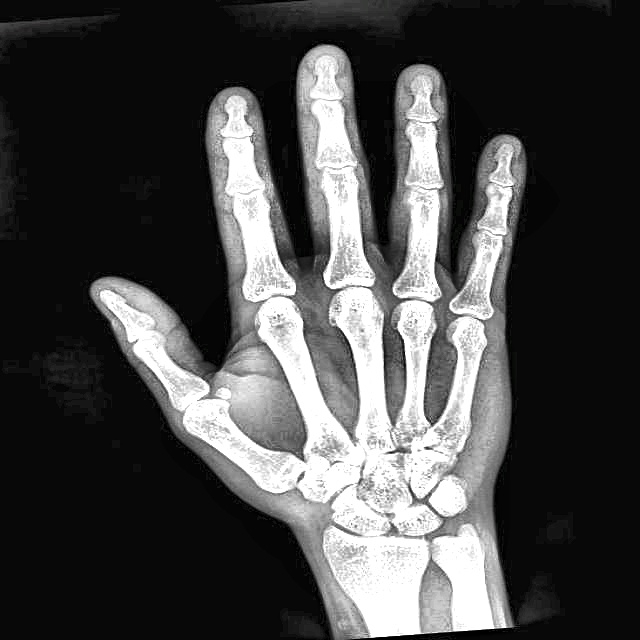Healthy: (164, 123, 552, 577)
